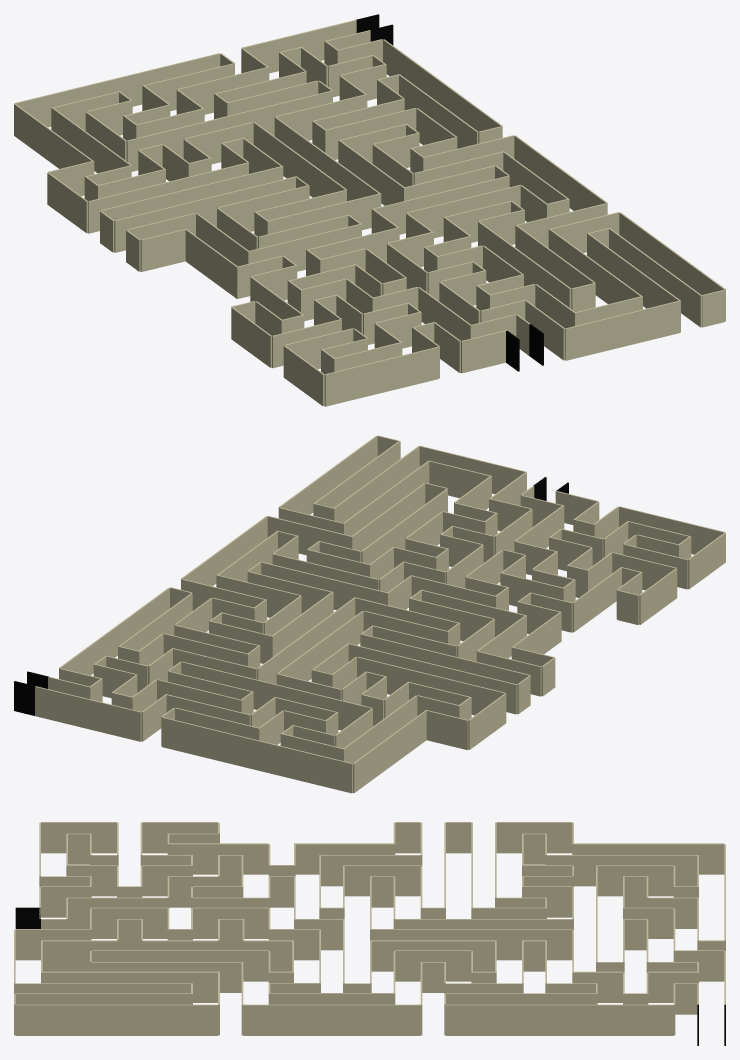
Rendered from Maze_Walls02.FBX.
3 views of the same model, one above another, from view 1: azimuth 30°, elevation 25°; view 2: azimuth 150°, elevation 25°; view 3: azimuth 270°, elevation 25° (orthographic). The views are drawn at different scales.
Visible parts, largest first — view 1: Maze_Walls02; view 2: Maze_Walls02; view 3: Maze_Walls02.
Boxes of the visible parts, x1=… form: Maze_Walls02: x1=14, y1=14, x2=725, y2=406; Maze_Walls02: x1=14, y1=435, x2=725, y2=793; Maze_Walls02: x1=14, y1=822, x2=725, y2=1045.
Bounding box in the file's own units: 5420 × 8440 × 400.
